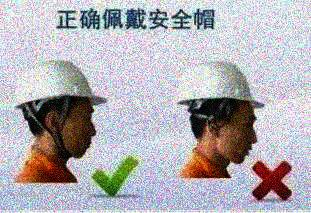helmet: (12, 59, 108, 160), (171, 61, 265, 164)
